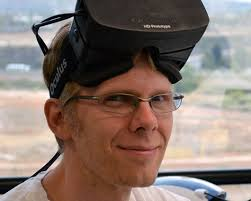oculus: (70, 1, 211, 85)
